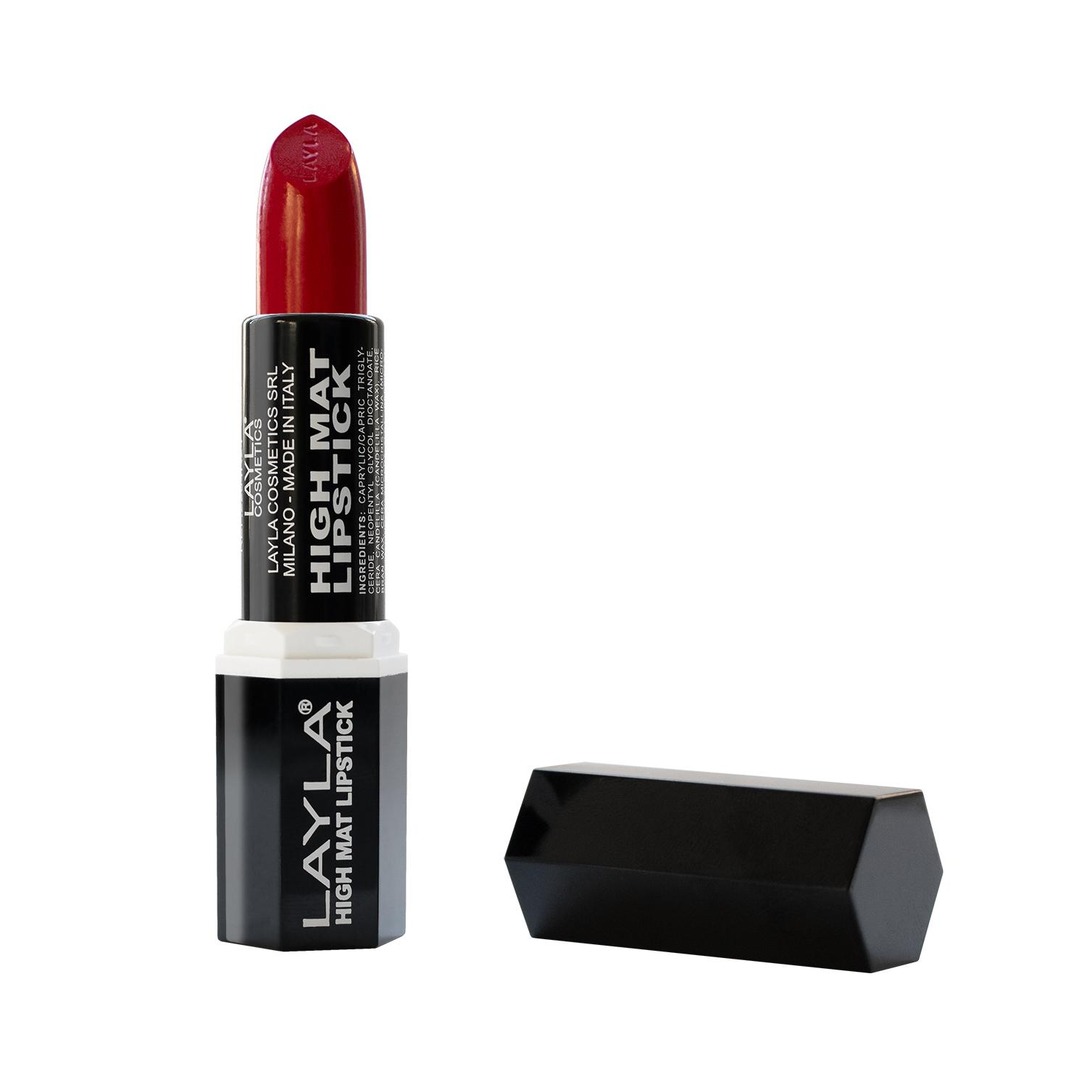lipstick: (172, 106, 472, 961)
